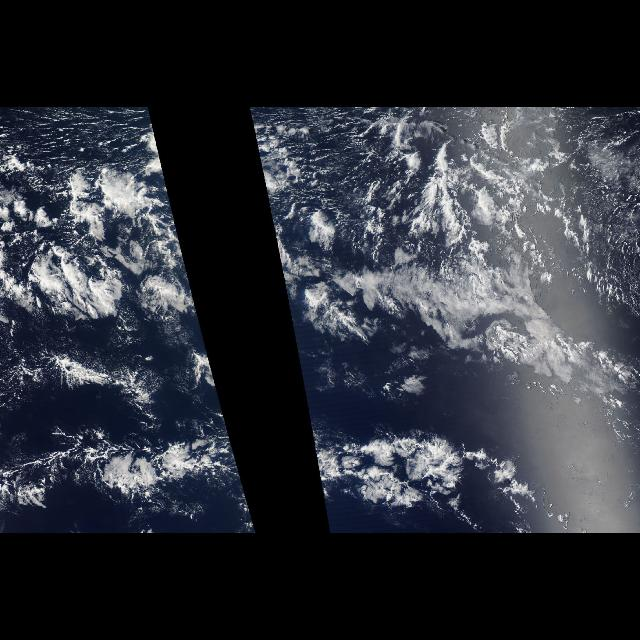Fish: (307, 427, 538, 518), (67, 427, 253, 518)
